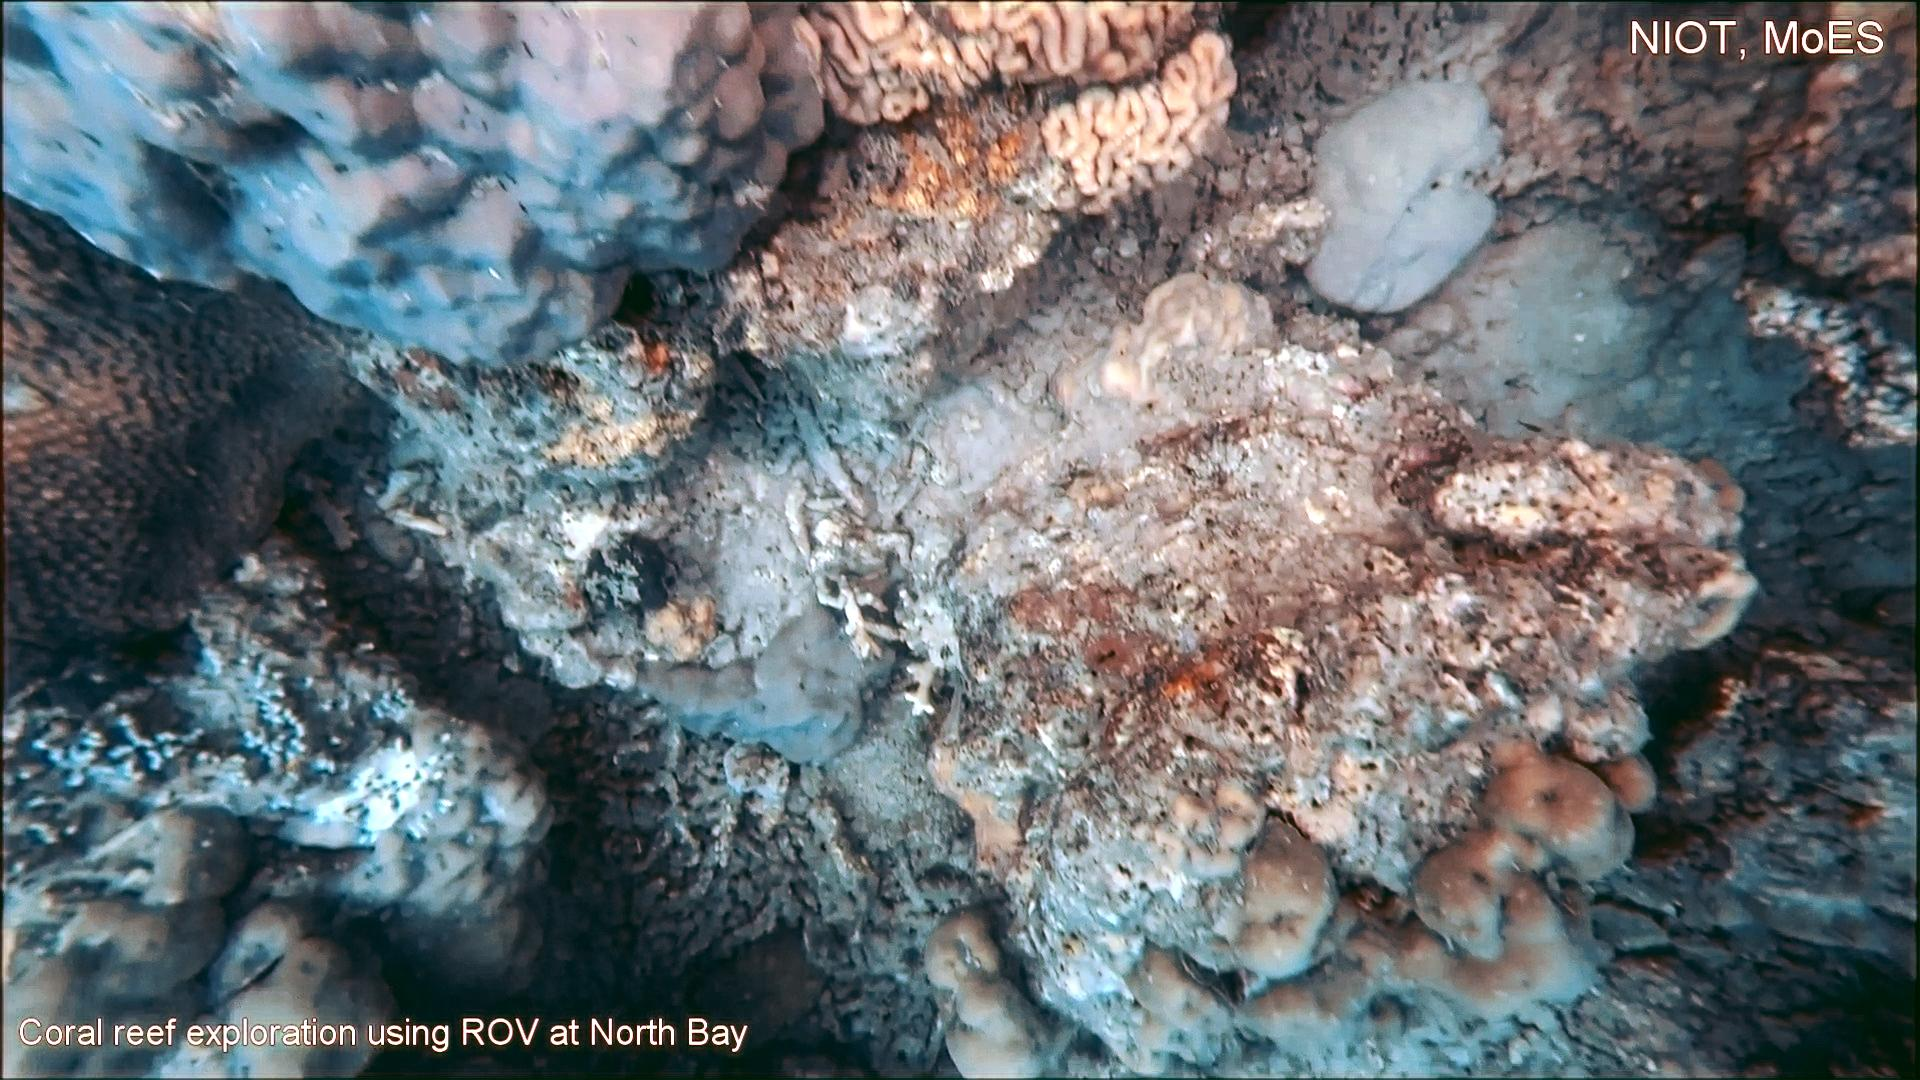Lobophyllia: (785, 0, 1251, 220)
